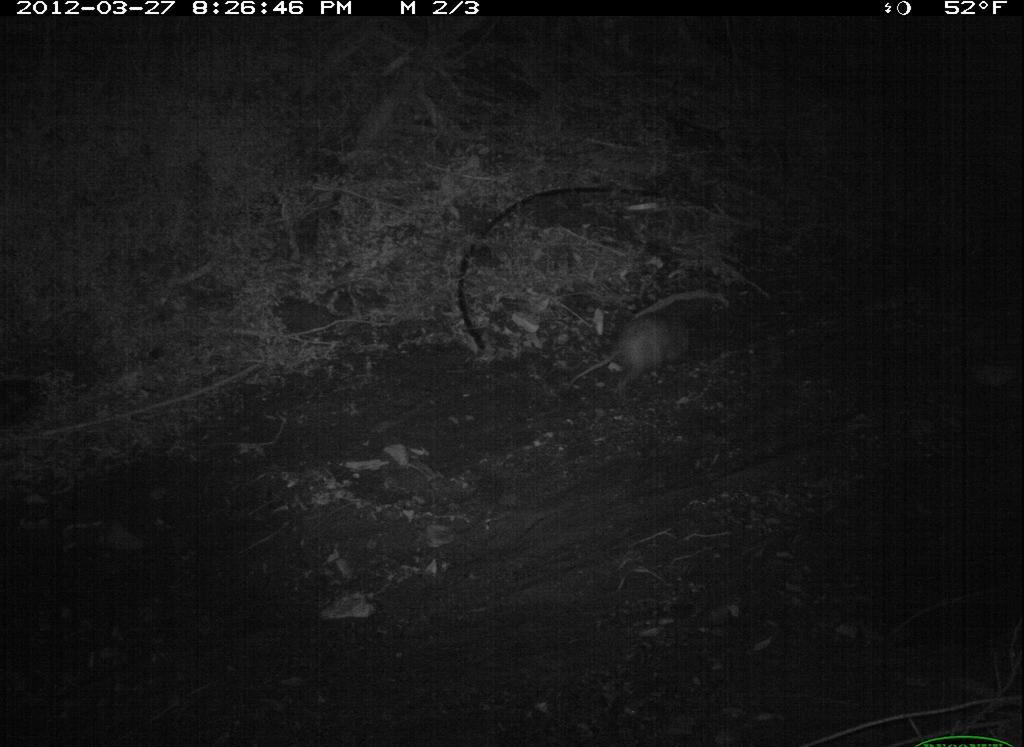opossum: (561, 300, 705, 405)
